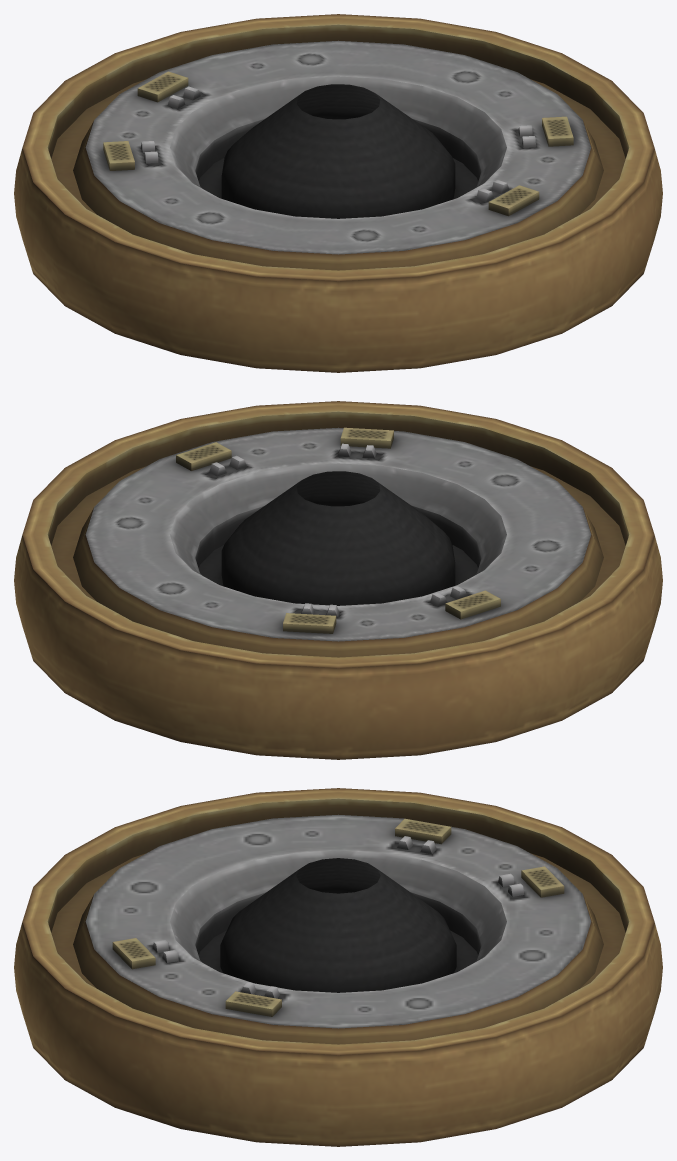
The model's file is octans_docking_port_s0p5_2_male.obj.
3 views of the same model, one above another, from view 1: azimuth 30°, elevation 25°; view 2: azimuth 150°, elevation 25°; view 3: azimuth 270°, elevation 25° (orthographic).
Visible parts, largest first — view 1: mesh; view 2: mesh; view 3: mesh.
Part boxes in pixels (x1=…): mesh: x1=14, y1=14, x2=662, y2=372; mesh: x1=14, y1=401, x2=662, y2=759; mesh: x1=14, y1=788, x2=662, y2=1146.
Bounding box in the file's own units: 0.9625 × 0.225 × 0.9625.
